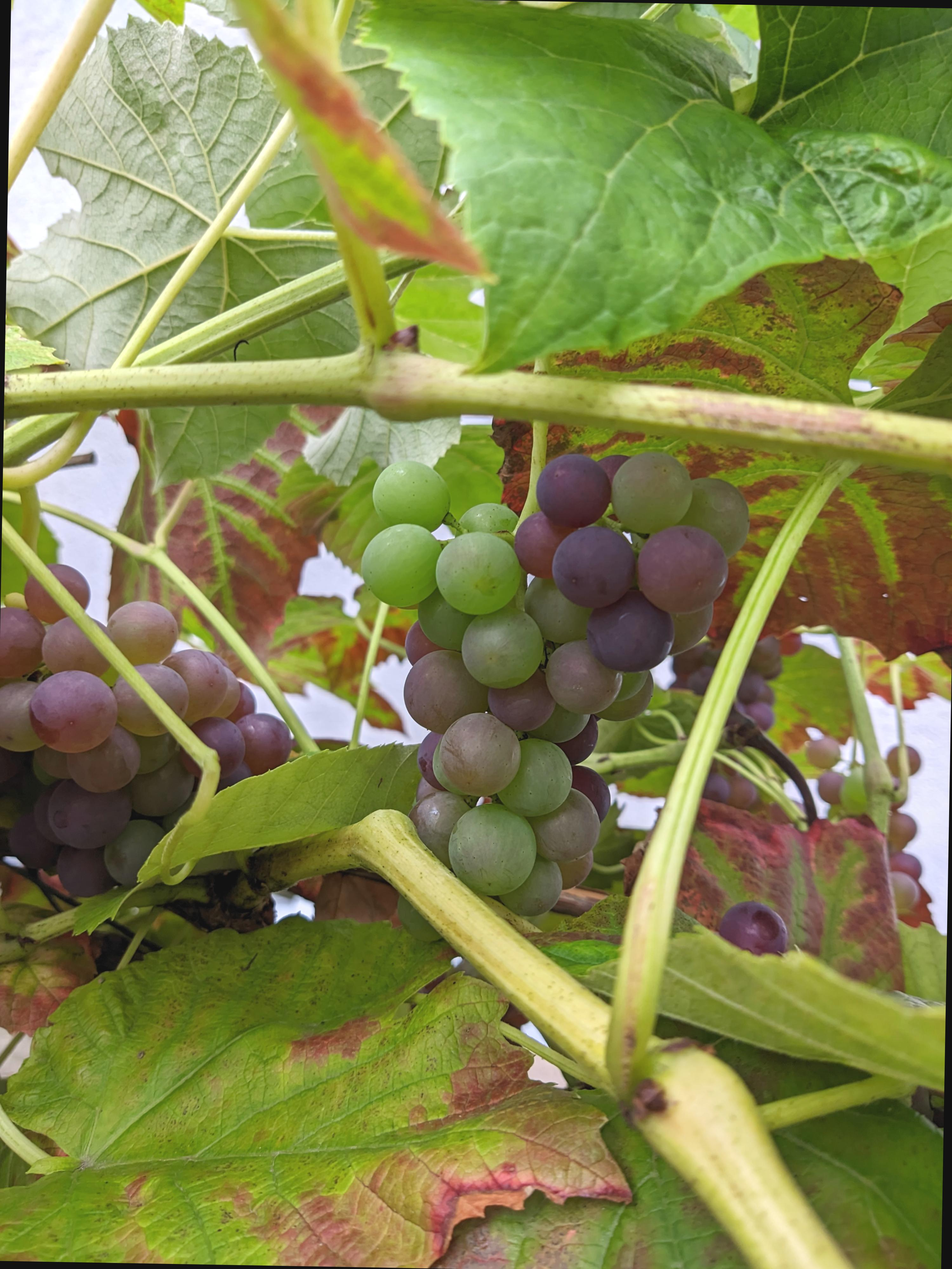Grape Unripe: (356, 417, 761, 918), (6, 559, 306, 905), (818, 725, 948, 929)
